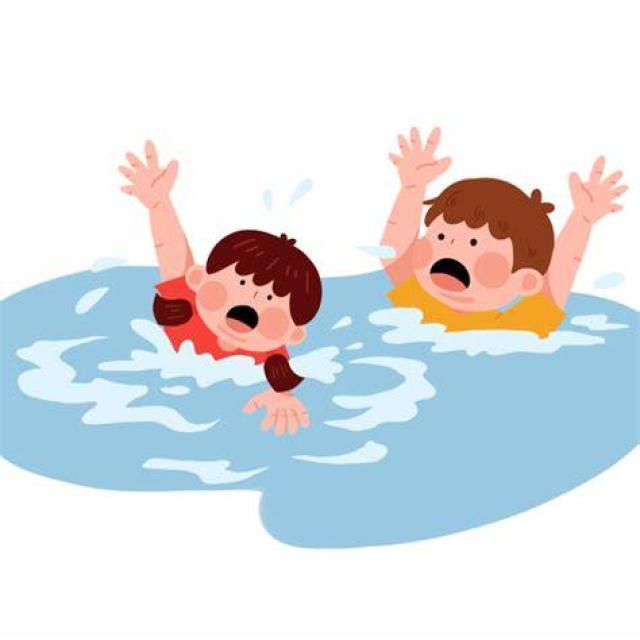drowning: (108, 142, 338, 515), (376, 115, 636, 415)
